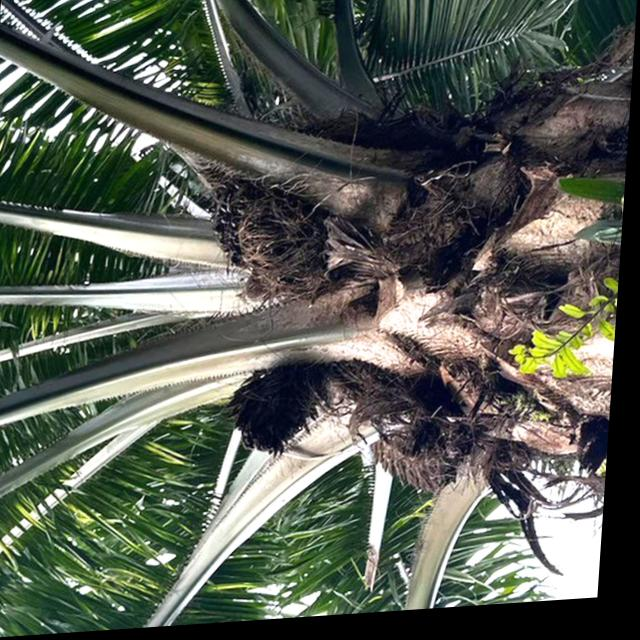almost: (199, 156, 321, 302)
